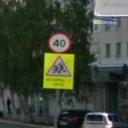speed_limit_40: (47, 32, 73, 54)
